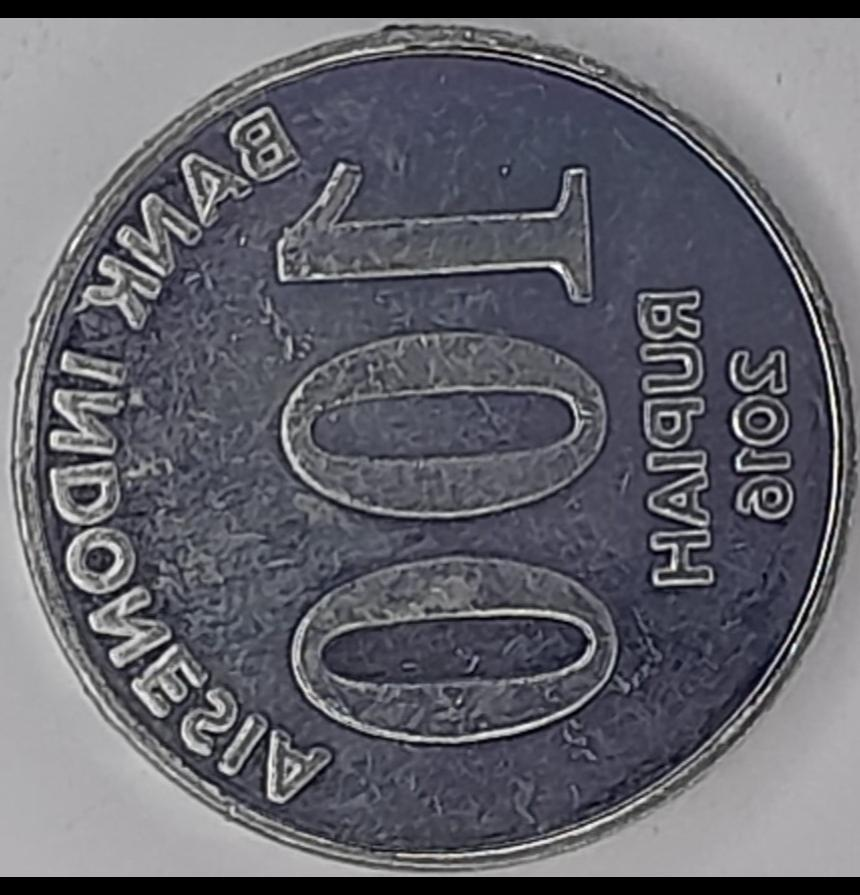coin_100_e2016: (4, 18, 858, 871)
